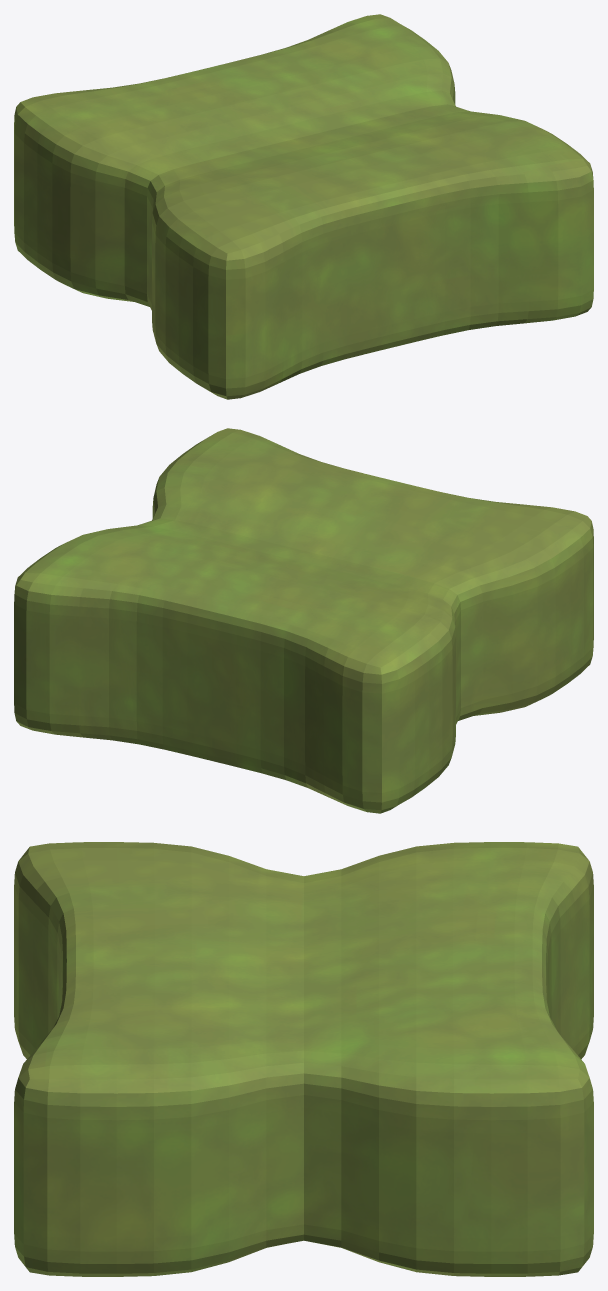
The model's file is Croquette2.fbx.
The picture shows the model from 3 angles, top to bottom: view 1: azimuth 30°, elevation 25°; view 2: azimuth 150°, elevation 25°; view 3: azimuth 270°, elevation 25°; orthographic projection. The views are drawn at different scales.
Parts seen in each view (by area): view 1: Cube; view 2: Cube; view 3: Cube.
Part boxes in pixels (x1,y1,x2,y2): Cube: (14, 14, 593, 399); Cube: (14, 428, 593, 813); Cube: (14, 842, 593, 1276).
Bounding box in the file's own units: 200 × 77.44 × 193.
